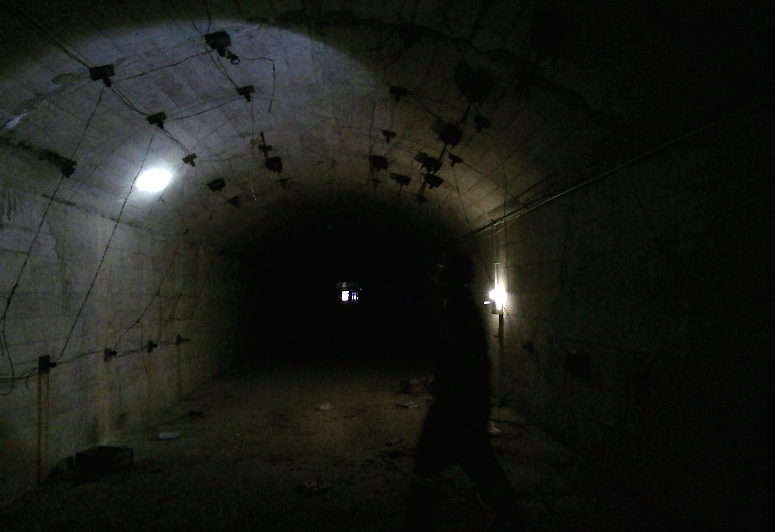person: (396, 255, 536, 532)
